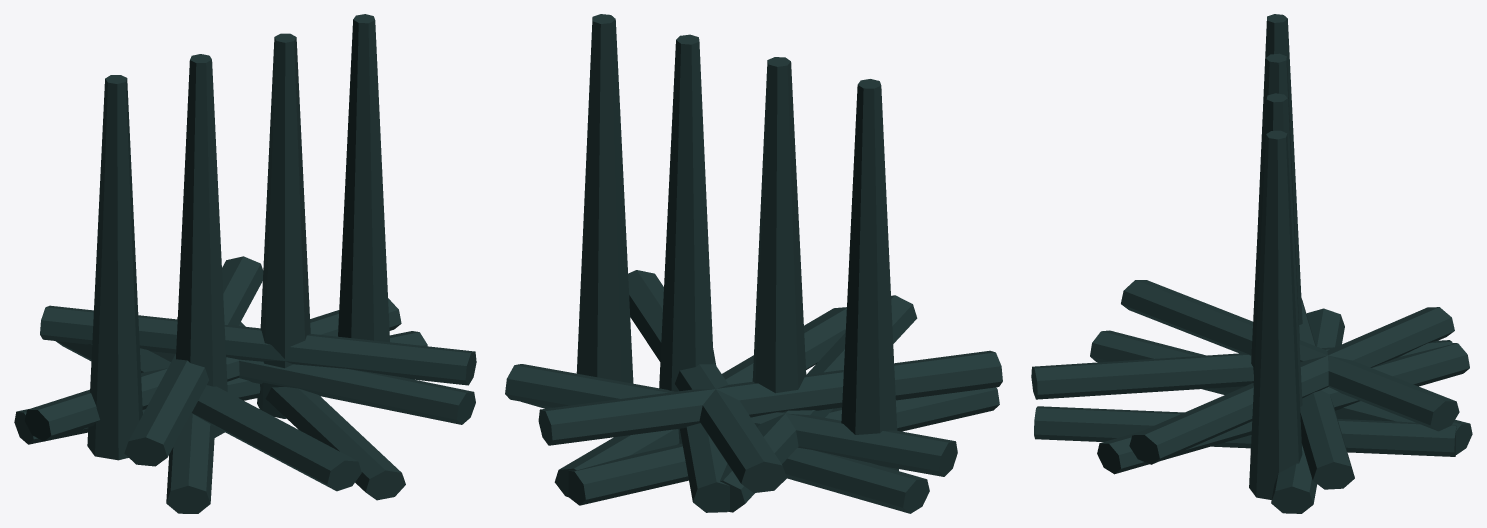
File: df_v2_root_wall_blocker_a.glb
The picture shows the model from 3 angles, left to right: view 1: azimuth 30°, elevation 25°; view 2: azimuth 150°, elevation 25°; view 3: azimuth 270°, elevation 25°; orthographic projection. The views are drawn at different scales.
Visible parts, largest first — view 1: upright_root_wall_0, upright_root_wall_2, upright_root_wall_3, upright_root_wall_1, overlapping_root_2, overlapping_root_7, overlapping_root_1, overlapping_root_5, overlapping_root_0, overlapping_root_4, overlapping_root_6, overlapping_root_3; view 2: upright_root_wall_3, upright_root_wall_0, overlapping_root_5, upright_root_wall_2, upright_root_wall_1, overlapping_root_4, overlapping_root_2, overlapping_root_6, overlapping_root_3, overlapping_root_0, overlapping_root_7, overlapping_root_1; view 3: upright_root_wall_3, overlapping_root_5, overlapping_root_2, overlapping_root_0, overlapping_root_7, overlapping_root_1, overlapping_root_4, overlapping_root_6, overlapping_root_3, upright_root_wall_1, upright_root_wall_0, upright_root_wall_2.
Part boxes in pixels (x1,y1,x2,y2): upright_root_wall_0: (87,75,142,460); upright_root_wall_2: (257,33,310,418); upright_root_wall_3: (338,14,389,342); upright_root_wall_1: (176,54,227,437); overlapping_root_2: (40,305,476,385); overlapping_root_7: (55,341,361,491); overlapping_root_1: (151,351,475,424); overlapping_root_5: (124,256,263,466); overlapping_root_0: (239,322,405,500); overlapping_root_4: (24,298,401,441); overlapping_root_6: (166,317,215,513); overlapping_root_3: (14,331,427,444); upright_root_wall_3: (576,14,633,383); upright_root_wall_0: (841,79,898,470); overlapping_root_5: (538,350,1002,445); upright_root_wall_2: (659,34,713,391); upright_root_wall_1: (752,57,806,393); overlapping_root_4: (505,364,957,476); overlapping_root_2: (628,270,786,492); overlapping_root_6: (568,387,999,505); overlapping_root_3: (521,401,929,513); overlapping_root_0: (554,307,846,497); overlapping_root_7: (720,295,917,512); overlapping_root_1: (680,348,729,512); upright_root_wall_3: (1249,130,1302,499); overlapping_root_5: (1121,280,1459,431); overlapping_root_2: (1129,307,1454,464); overlapping_root_0: (1034,406,1456,456); overlapping_root_7: (1031,340,1452,399); overlapping_root_1: (1097,343,1469,474); overlapping_root_4: (1299,298,1354,489); overlapping_root_6: (1090,330,1472,454); overlapping_root_3: (1271,308,1344,513); upright_root_wall_1: (1251,53,1299,382); upright_root_wall_0: (1258,14,1302,325); upright_root_wall_2: (1250,93,1302,456).
Size of the model in its own units: 1.39 by 1.25 by 1.41.
